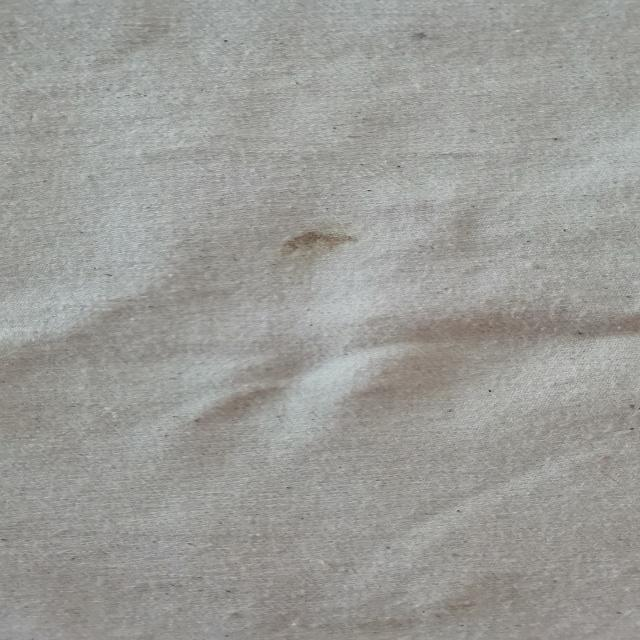taaaches: (256, 214, 376, 309), (99, 11, 198, 74), (383, 10, 465, 74)
